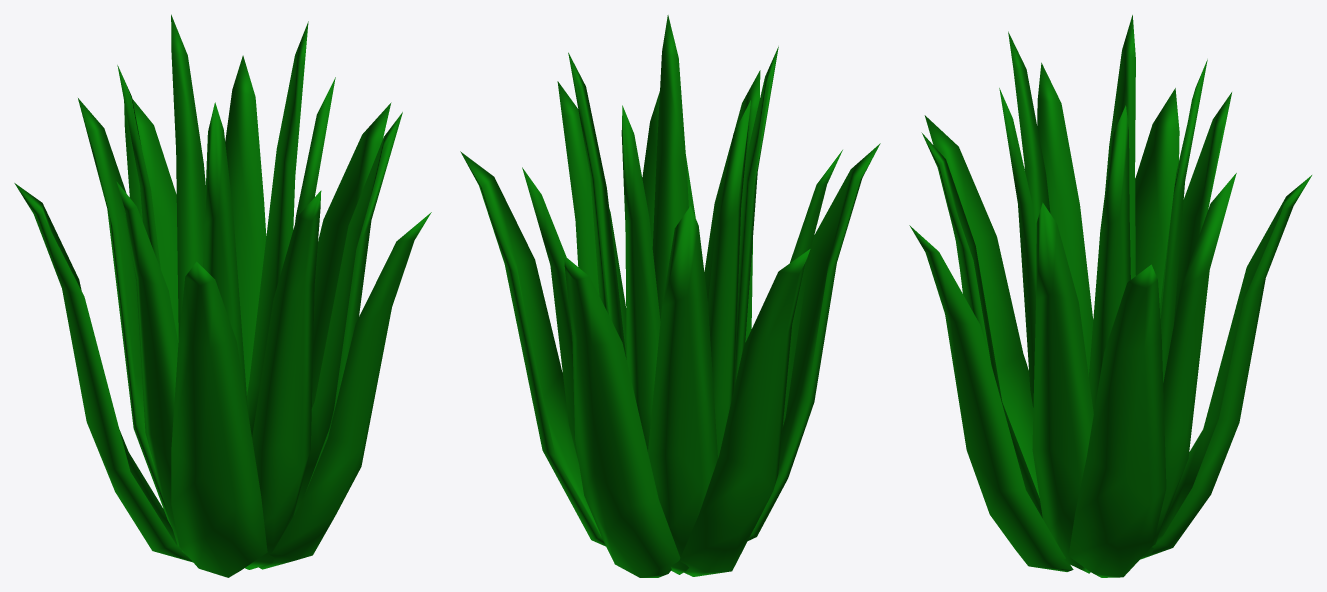
The model's file is SM_Aloe_001_LOD2.fbx.
3 renders of one model, left to right at view 1: azimuth 30°, elevation 25°; view 2: azimuth 150°, elevation 25°; view 3: azimuth 270°, elevation 25°, orthographic.
Parts seen in each view (by area): view 1: Aloe; view 2: Aloe; view 3: Aloe.
Part boxes in pixels (x1,y1,x2,y2): Aloe: (14,14,431,577); Aloe: (460,15,880,577); Aloe: (909,15,1311,577).
Bounding box in the file's own units: 60.11 × 79.98 × 58.07.
